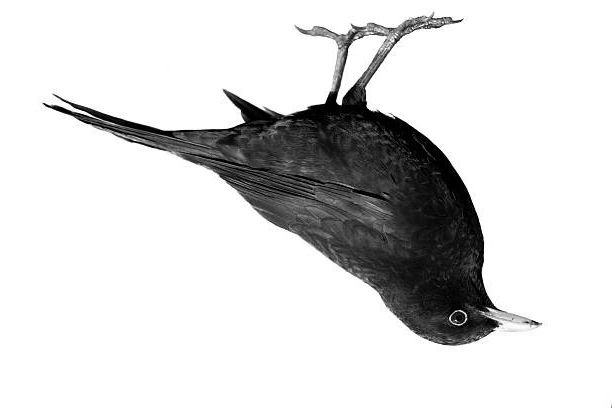Bird: (39, 9, 547, 351)
